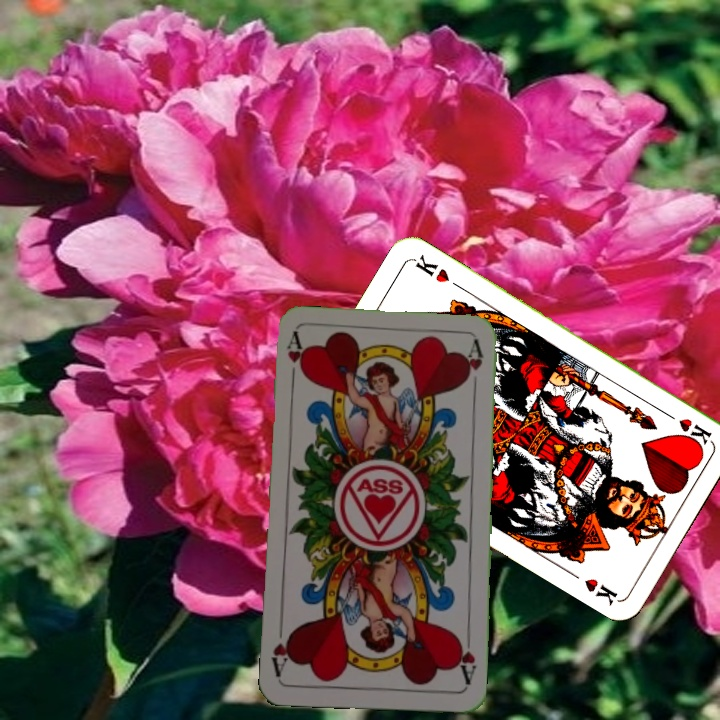HA: (452, 629, 479, 688), (283, 330, 308, 389)
HK: (659, 407, 714, 448)
